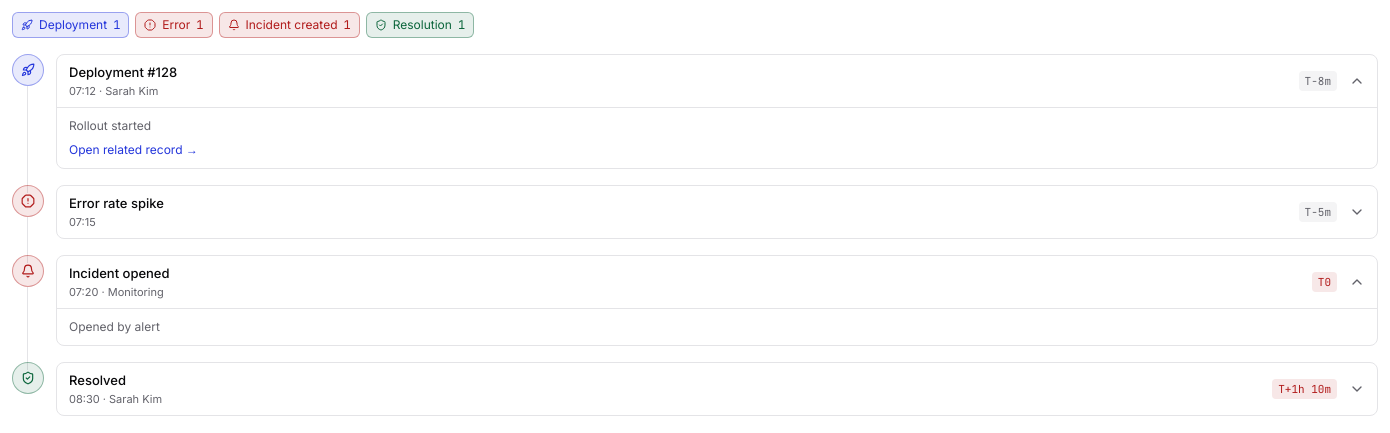
Test case: IncidentTimeline › filters by event type with toggle buttons
Click the button with aria-label "Error (1)": coordinates (174, 25) 135,12 -> 212,38
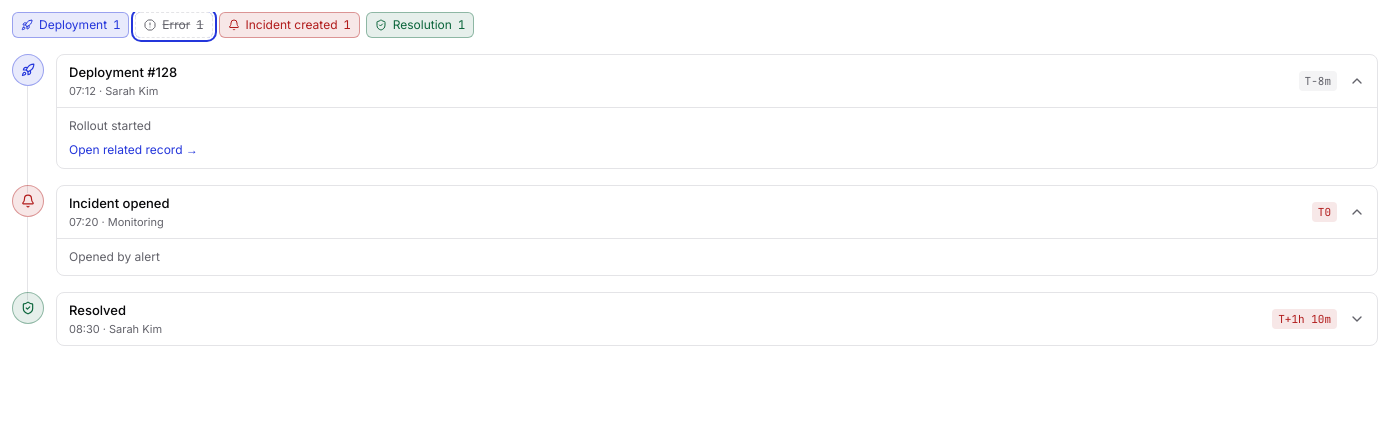
Result: the button "Error rate spike" is gone
Click the button with aria-label "Error (1)": coordinates (174, 25) 135,12 -> 212,38
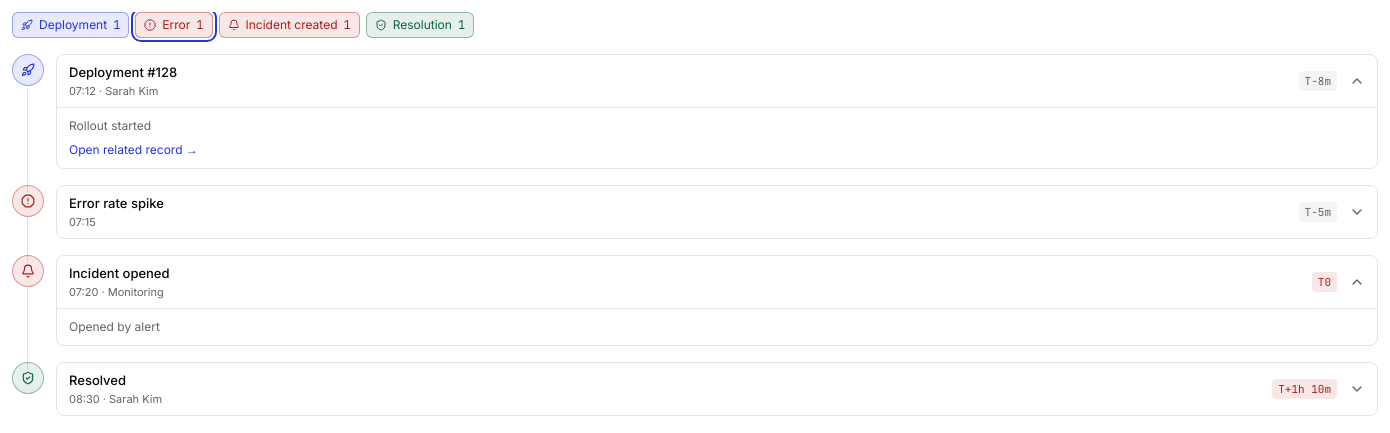
Result: the text "Error rate spike" is shown at 69,195 -> 164,211
